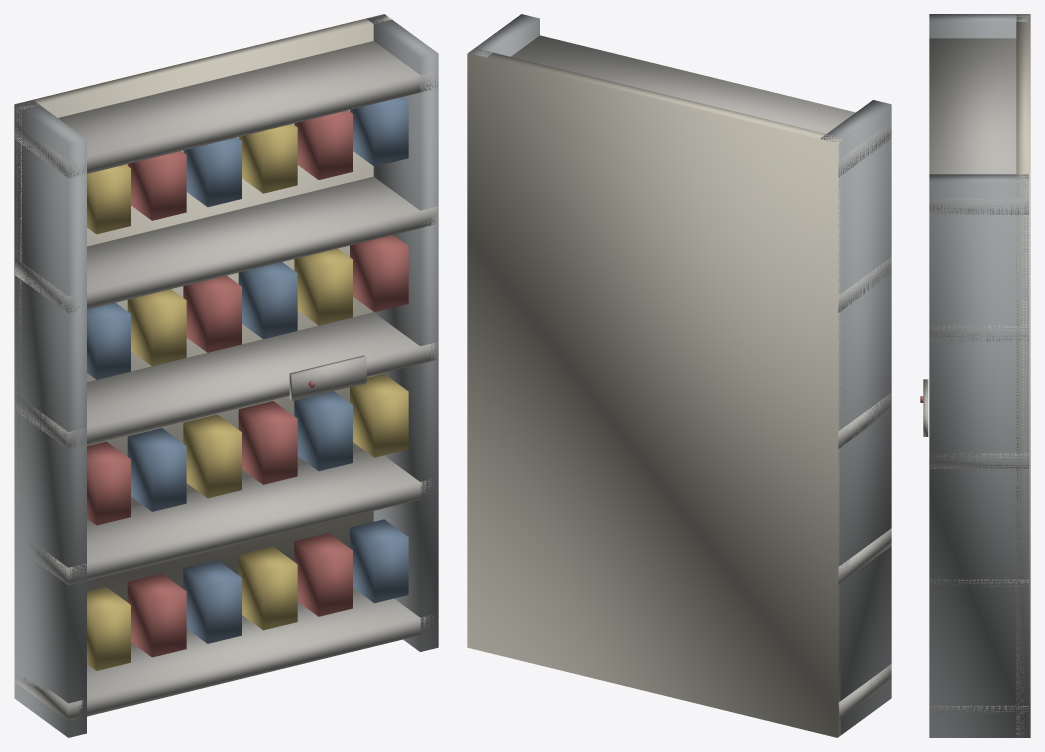
Rendered from pharmacy_shelf__tall.glb.
3 renders of one model, left to right at view 1: azimuth 30°, elevation 25°; view 2: azimuth 150°, elevation 25°; view 3: azimuth 270°, elevation 25°, orthographic. The views are drawn at different scales.
Visible parts, largest first — view 1: world; view 2: world; view 3: world.
Boxes of the visible parts, x1,y1,x2,y2 form: world: [14, 14, 438, 737]; world: [467, 14, 891, 737]; world: [920, 14, 1030, 737].
Bounding box in the file's own units: 1.4 × 2.15 × 0.386.
